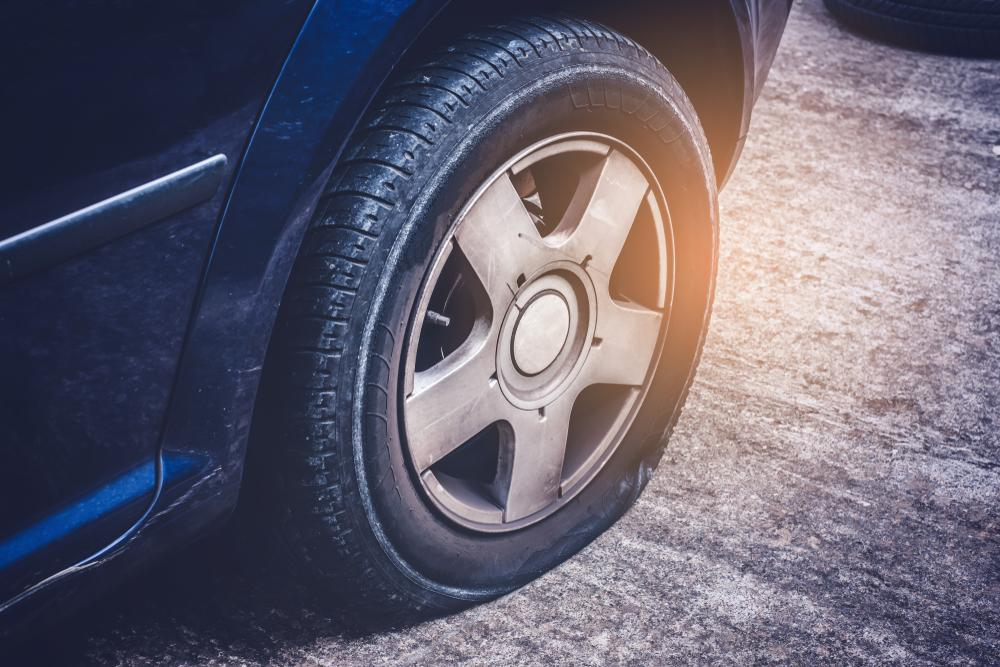tire flat: (251, 18, 720, 613)
